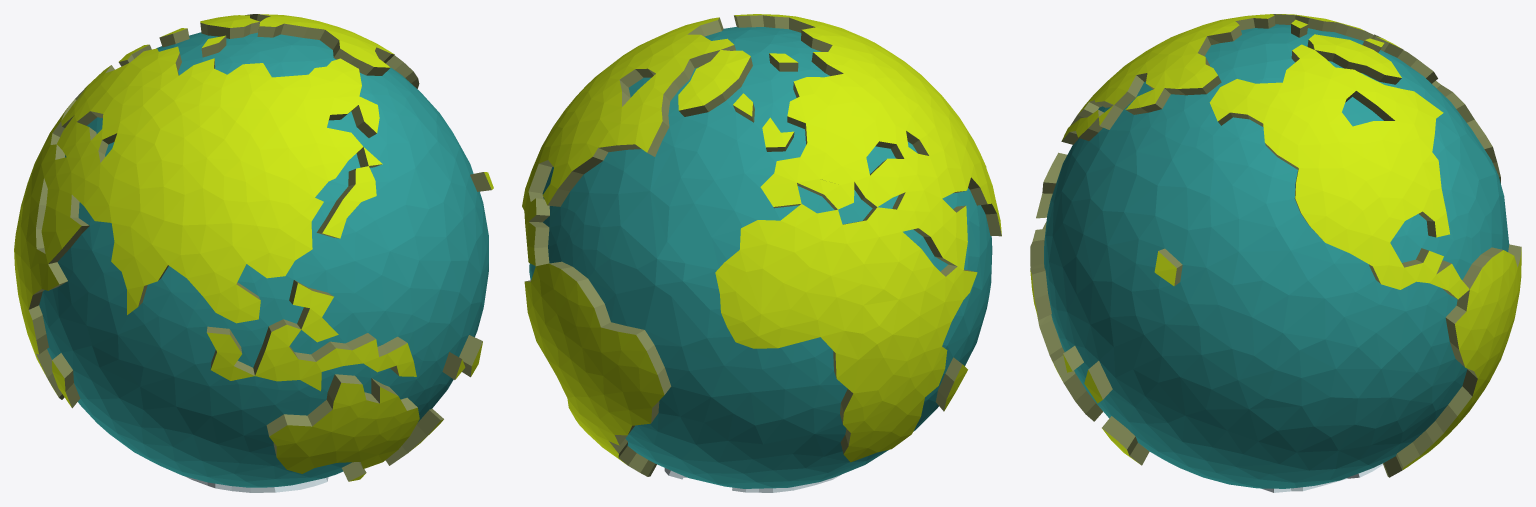
File: Earth2.fbx
The picture shows the model from 3 angles, left to right: view 1: azimuth 30°, elevation 25°; view 2: azimuth 150°, elevation 25°; view 3: azimuth 270°, elevation 25°; orthographic projection.
Visible parts, largest first — view 1: Sphere; view 2: Sphere; view 3: Sphere.
Part boxes in pixels (x1,y1,x2,y2): Sphere: (14, 14, 493, 492); Sphere: (522, 14, 1001, 492); Sphere: (1030, 14, 1521, 492).
Bounding box in the file's own units: 204 × 206 × 211.
